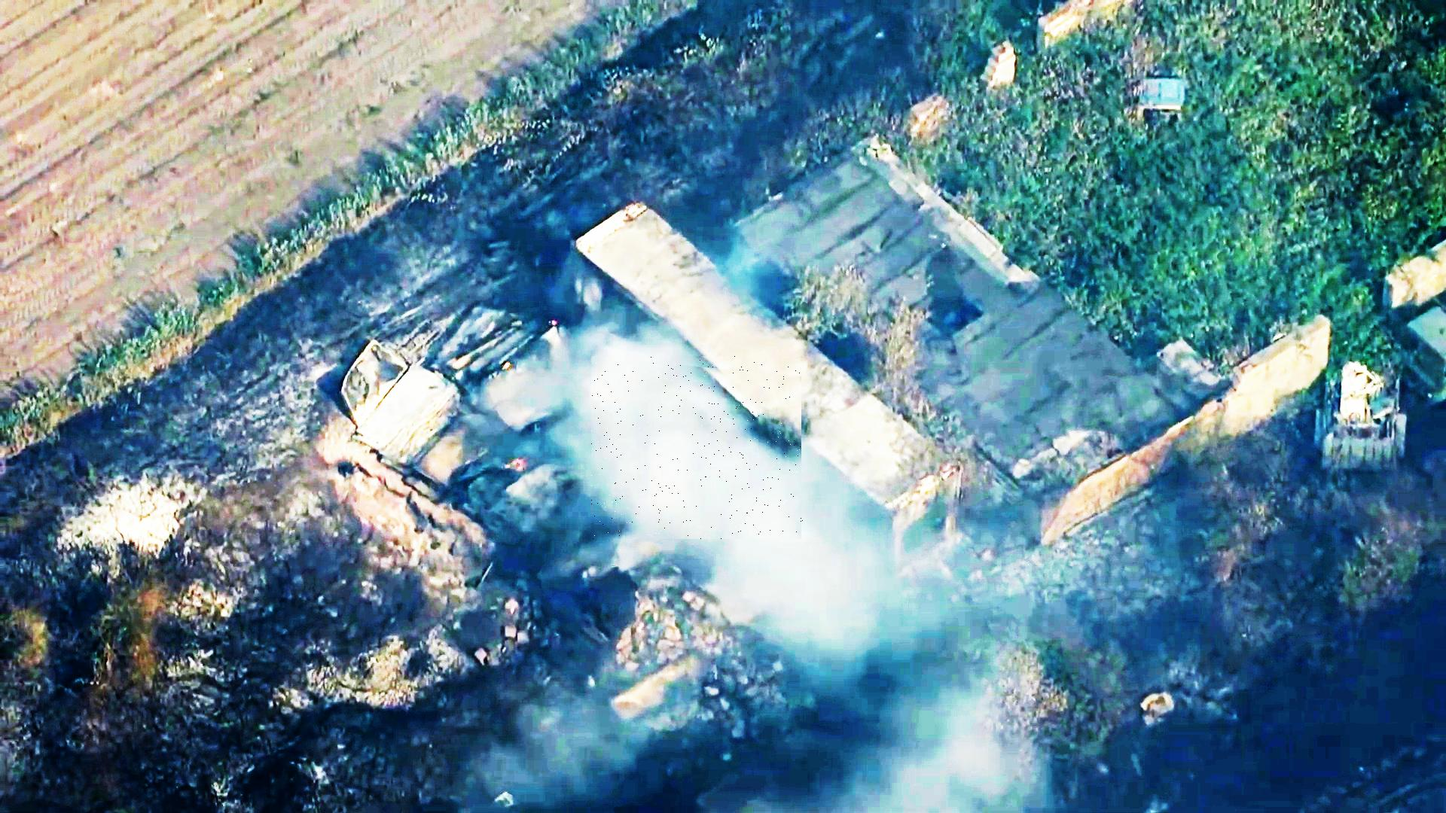smoke: (592, 356, 803, 539)
